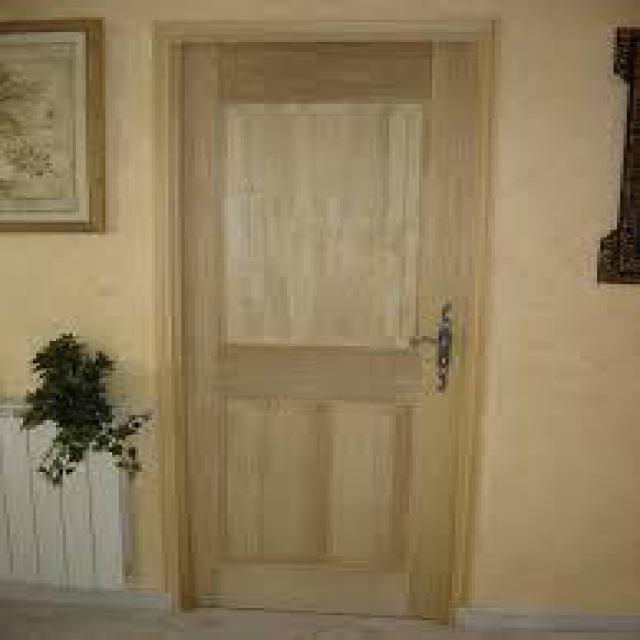door: (166, 29, 482, 621)
